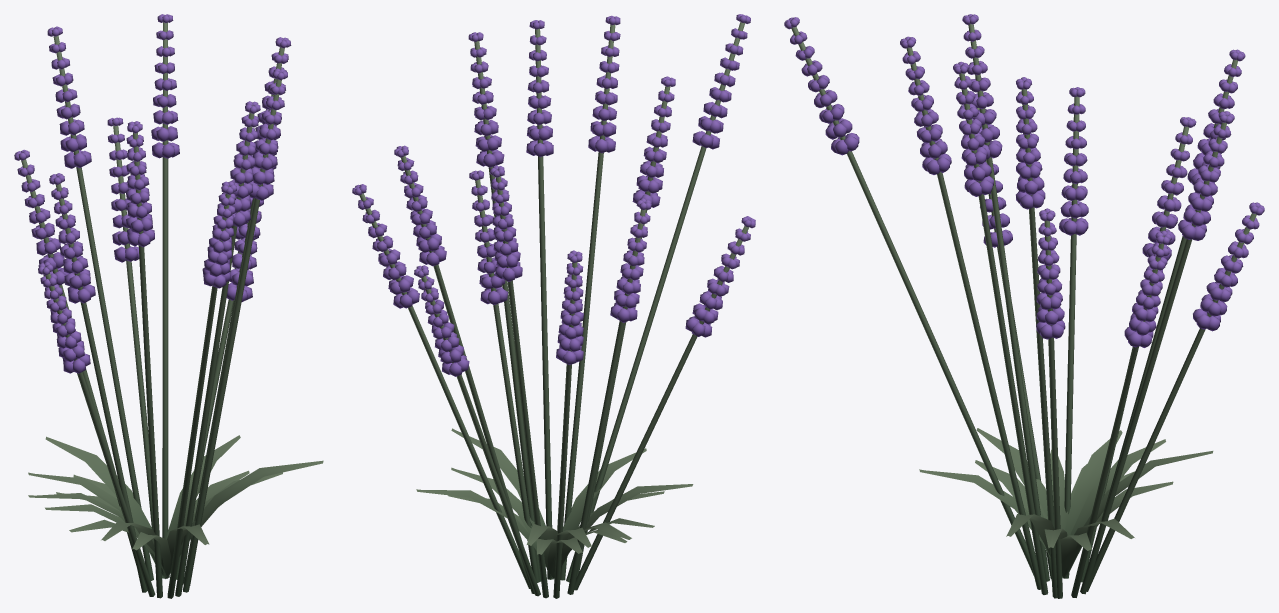
Rendered from SM_Flower_Lavender.fbx.
3 renders of one model, left to right at view 1: azimuth 30°, elevation 25°; view 2: azimuth 150°, elevation 25°; view 3: azimuth 270°, elevation 25°, orthographic. The views are drawn at different scales.
Visible parts, largest first — view 1: SM_Flower_Lavender; view 2: SM_Flower_Lavender; view 3: SM_Flower_Lavender.
Boxes of the visible parts, x1,y1,x2,y2 form: SM_Flower_Lavender: (14, 14, 323, 598); SM_Flower_Lavender: (352, 14, 755, 598); SM_Flower_Lavender: (784, 14, 1264, 598).
Size of the model in its own units: 0.3412 by 0.5377 by 0.4181.
